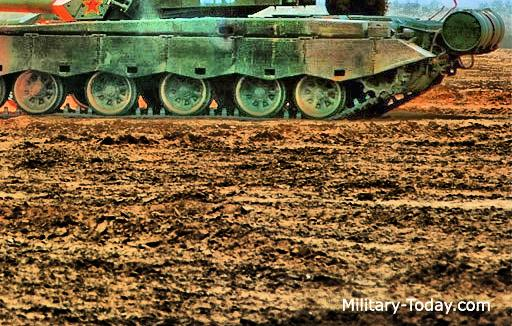tanks: (1, 1, 505, 121), (1, 110, 3, 118)
